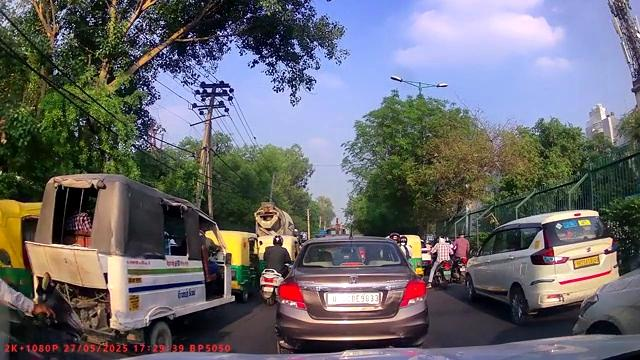motorcycle_without_helmet: (427, 235, 457, 291)
